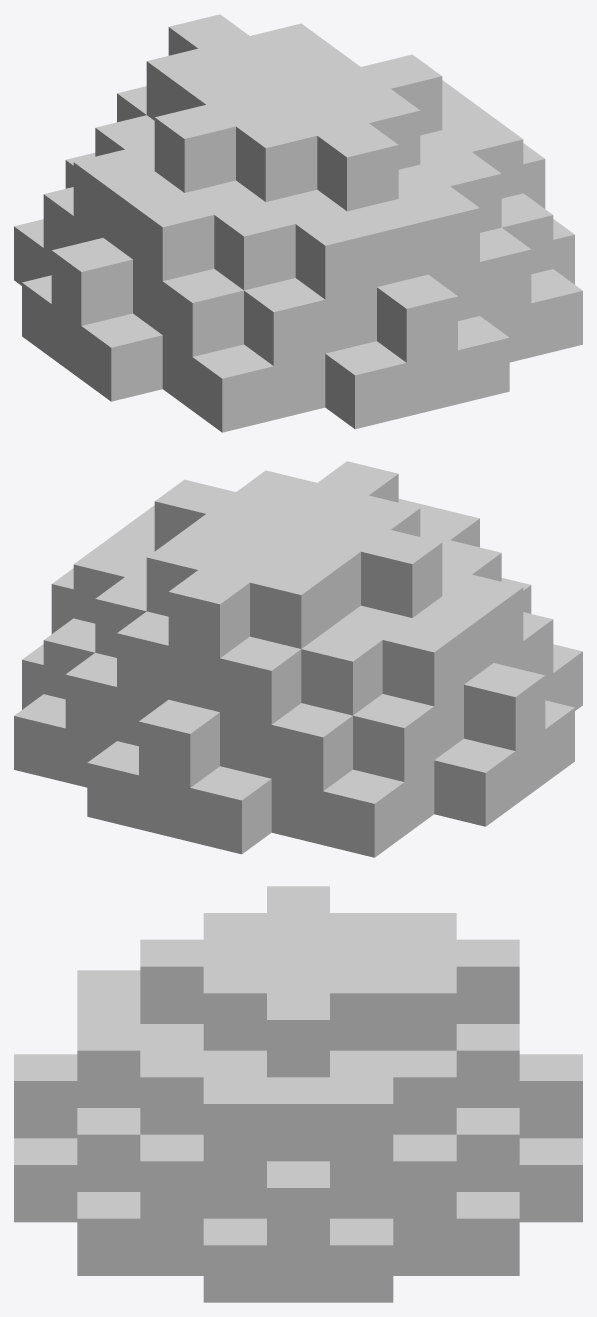
The model's file is Bernard_Leg_Back_Right_Foot.obj.
3 views of the same model, one above another, from view 1: azimuth 30°, elevation 25°; view 2: azimuth 150°, elevation 25°; view 3: azimuth 270°, elevation 25° (orthographic). The views are drawn at different scales.
Parts seen in each view (by area): view 1: Bernard; view 2: Bernard; view 3: Bernard.
Boxes of the visible parts, <box> form: Bernard: <box>14,14,582,432</box>; Bernard: <box>14,461,582,857</box>; Bernard: <box>14,886,582,1302</box>.
Bounding box in the file's own units: 0.9 × 0.4 × 0.9.
1 material, 1 textured.
